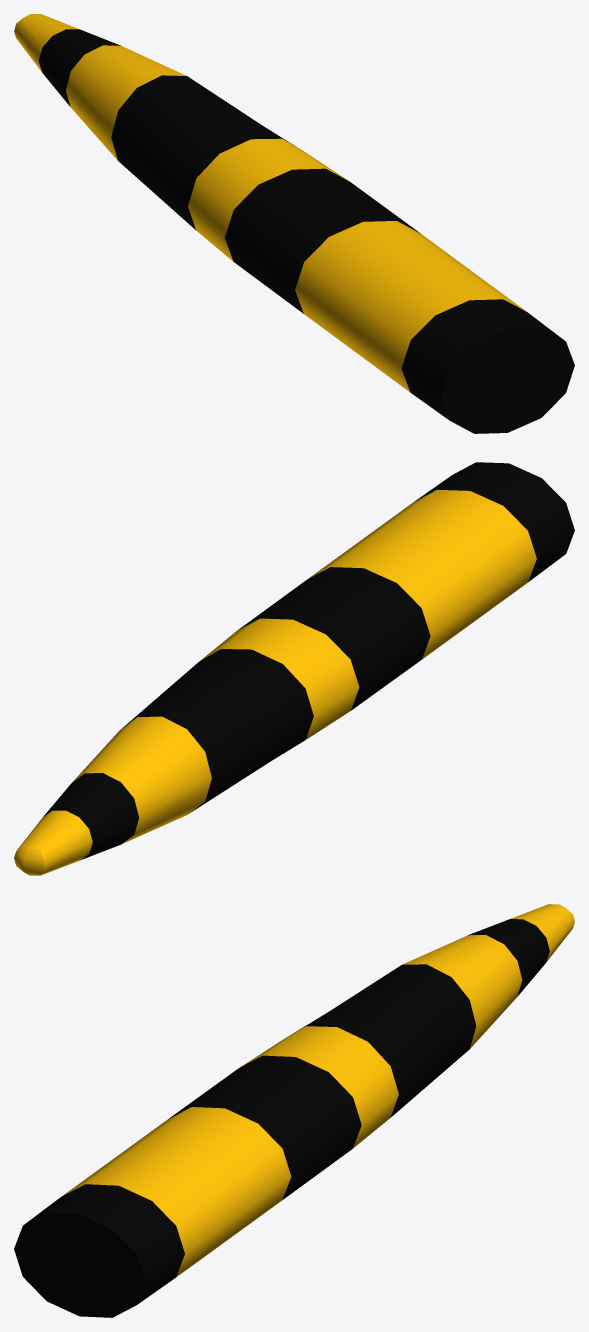
The model's file is SK_EnemyLargeAttack.FBX.
The picture shows the model from 3 angles, top to bottom: view 1: azimuth 30°, elevation 25°; view 2: azimuth 150°, elevation 25°; view 3: azimuth 330°, elevation 25°; orthographic projection.
Parts seen in each view (by area): view 1: Cylinder001; view 2: Cylinder001; view 3: Cylinder001.
Boxes of the visible parts, x1,y1,x2,y2 form: Cylinder001: [14, 14, 574, 433]; Cylinder001: [14, 462, 574, 875]; Cylinder001: [14, 904, 574, 1317].
Size of the model in its own units: 2.87 by 17.88 by 2.12.
